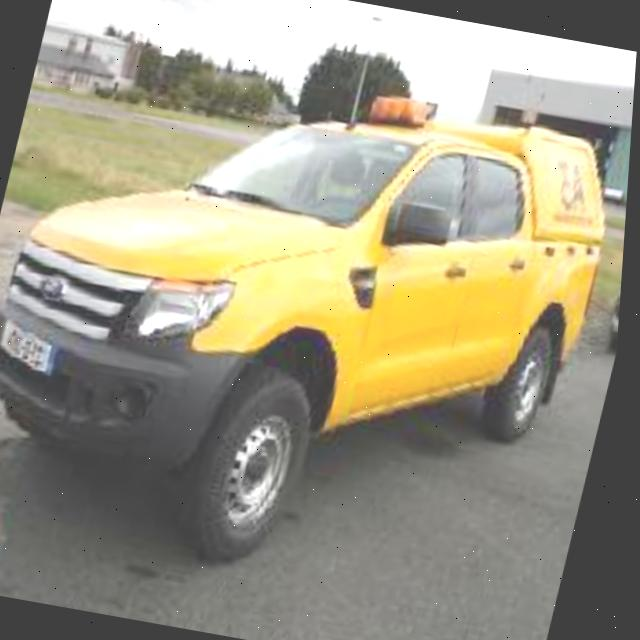emergency: (0, 25, 639, 618)
